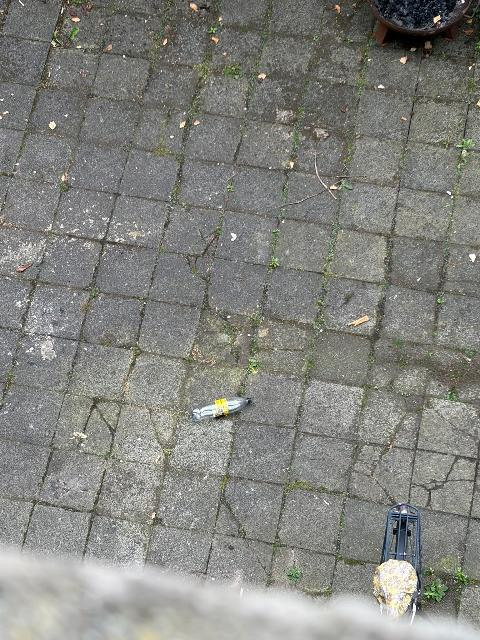plastic_bottle: (192, 394, 254, 420)
